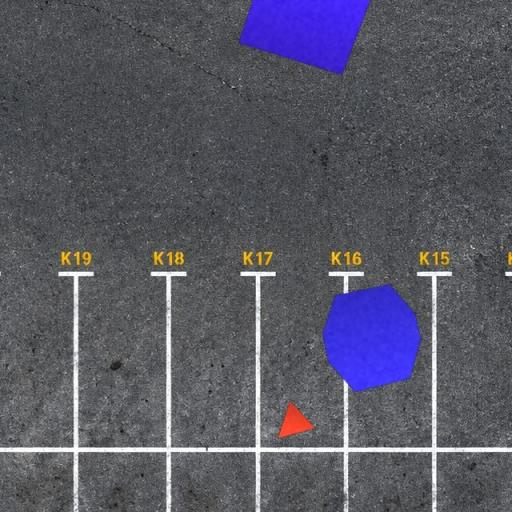BLUE_SQUARE: (238, 0, 382, 75)
